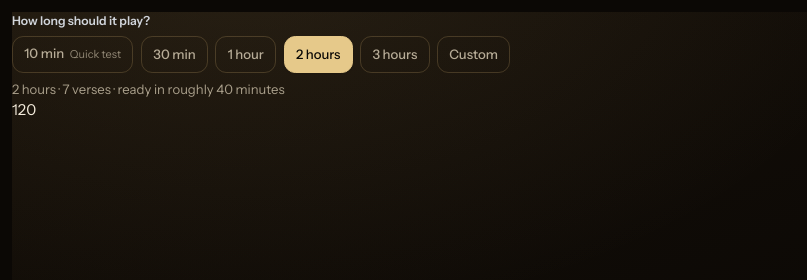
Test: AmbientLengthField › custom reveals a box for any other length
Click the button "Custom": point(474, 54) [437, 36, 510, 73]
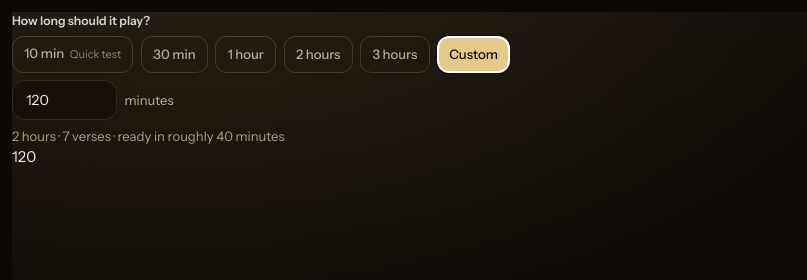
Replace the text in the number field named "custom length" with "45": point(64, 100) [12, 80, 117, 120]
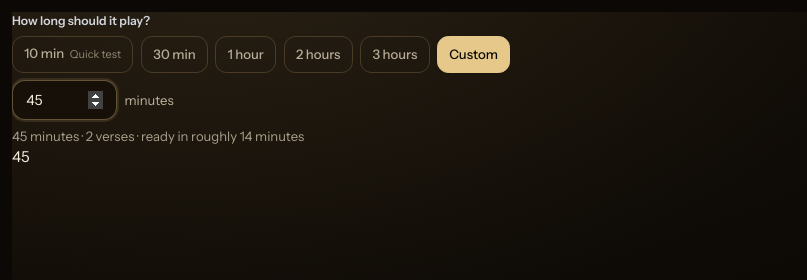
Expected: the text with test id "value" reads "45", [12, 147, 30, 166]
Expected: the text "45 minutes · 2 verses · ready in roughly 14 minutes" is shown, [12, 128, 304, 144]
